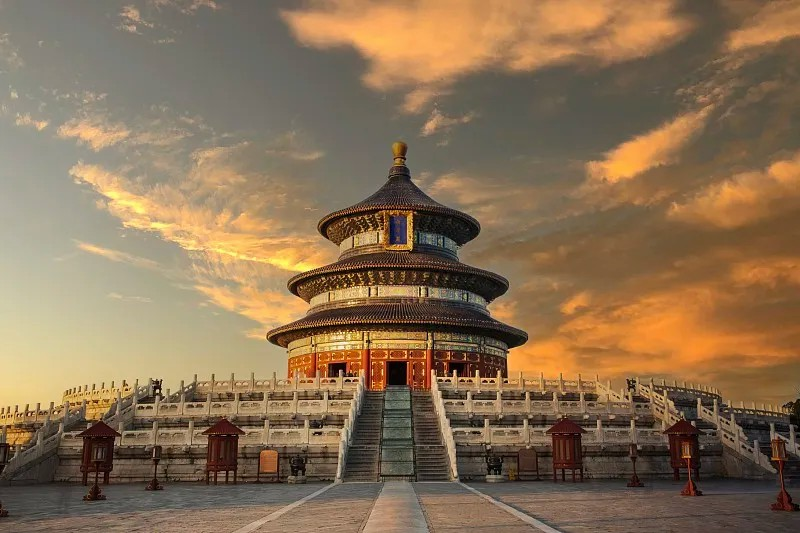Heaven: (265, 143, 527, 391)
